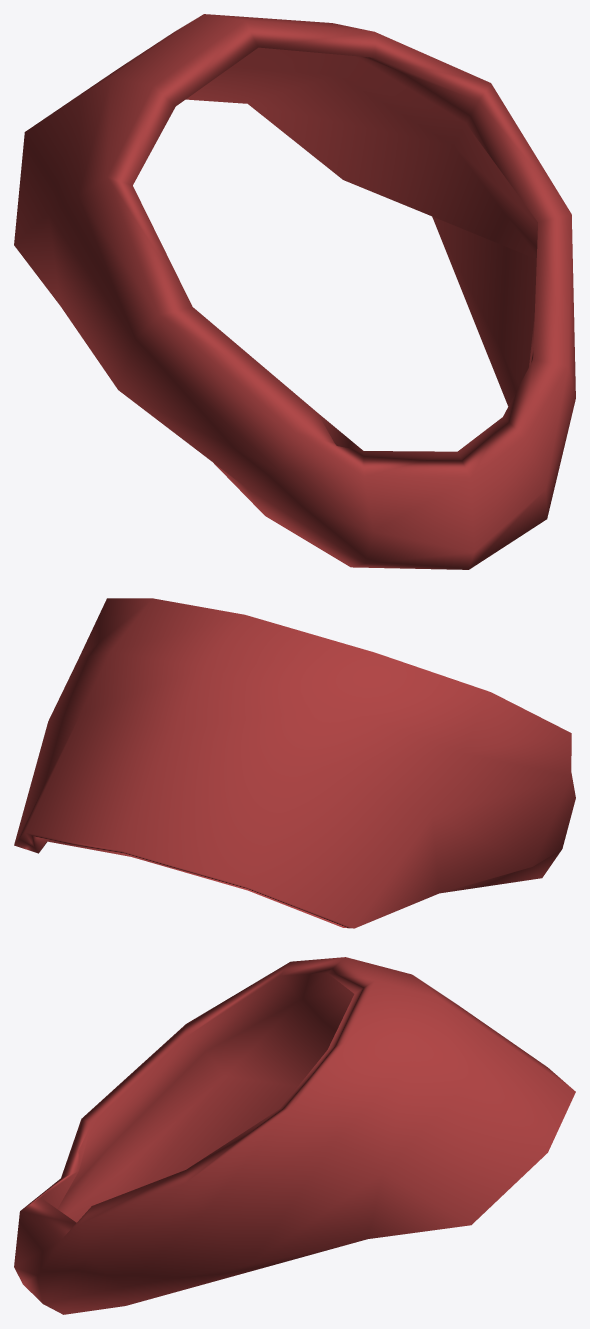
Rendered from Tiffany_Bandana_temp.fbx.
The picture shows the model from 3 angles, top to bottom: view 1: azimuth 30°, elevation 25°; view 2: azimuth 150°, elevation 25°; view 3: azimuth 270°, elevation 25°; orthographic projection. The views are drawn at different scales.
Parts seen in each view (by area): view 1: bandana_temp; view 2: bandana_temp; view 3: bandana_temp.
Boxes of the visible parts, box(x1,y1,x2,y2) form: bandana_temp: box(14, 14, 575, 569); bandana_temp: box(14, 598, 575, 928); bandana_temp: box(14, 957, 575, 1314).
Bounding box in the file's own units: 78.88 × 67.95 × 112.
